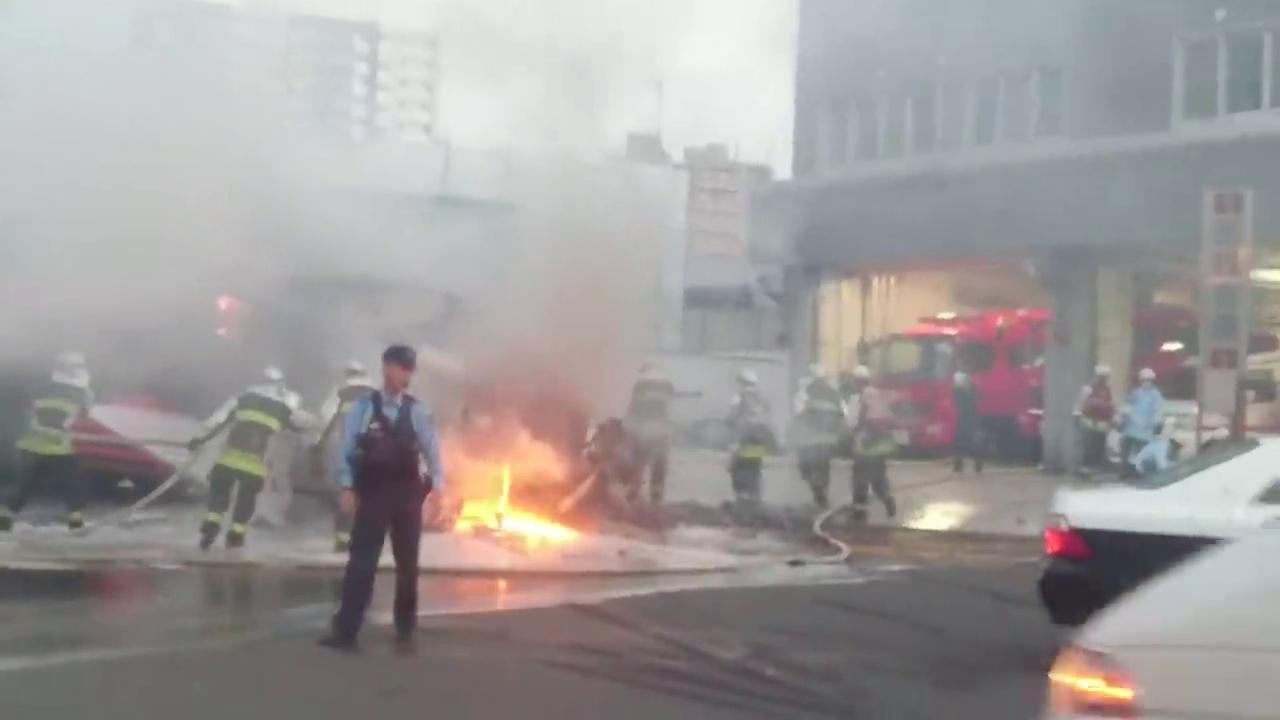Fire: (460, 461, 583, 542)
